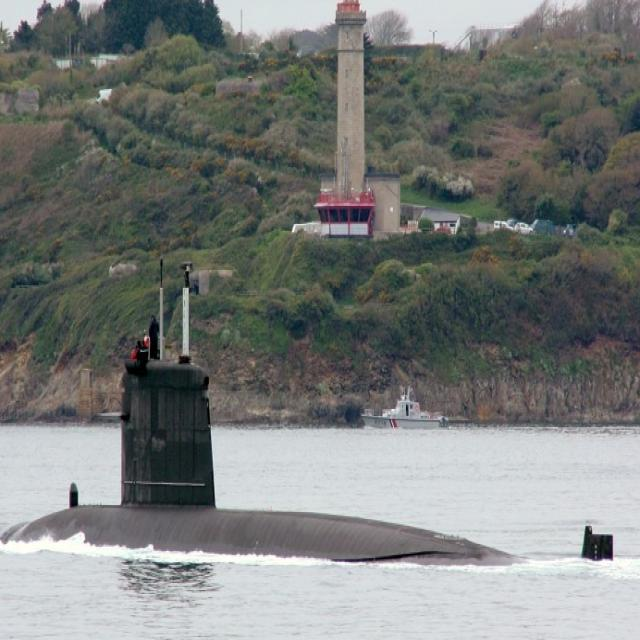submarine: (1, 259, 618, 561)
